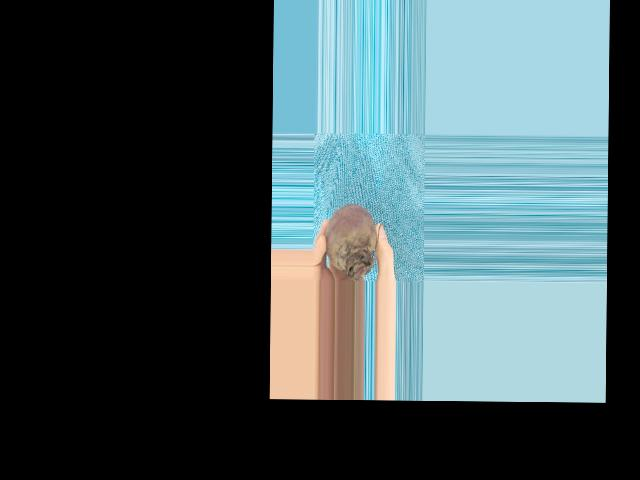beet: (325, 203, 383, 280)
